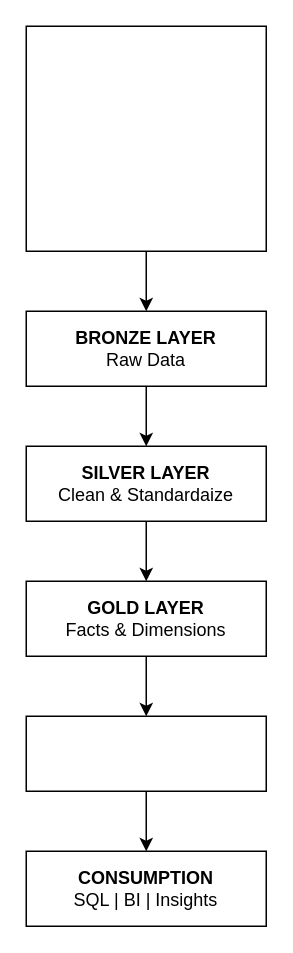
The diagram is 293 pixels wide and 953 high, and some of its shapes have lost their labels. The shapes that lost their labels are listed below. From the top down, each one's box as (x1, y1, x2, y2) in pixels, then its label:
(25, 25, 266, 251): DATA SOURCE Yellow Taxi Green Taxi FHV FHVHV Zone Lookup
(25, 715, 266, 791): ANALYTICS LAYER Aggregated Matrics
